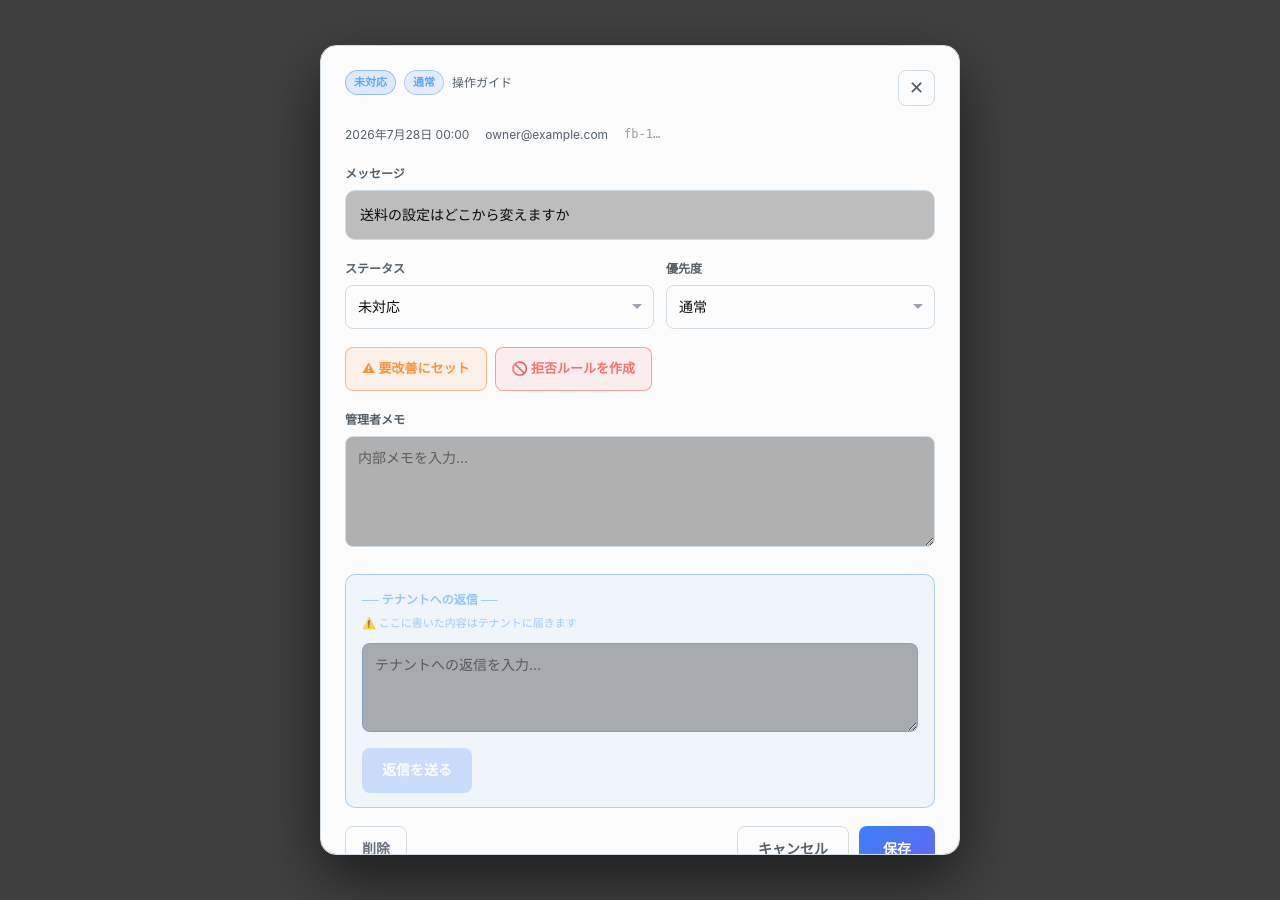
it: DetailModal — テナントへの返信 › 送信失敗時はエラーメッセージを表示し、送信済み表示にはならない
The width and height of the screenshot is (1280, 900).
Type "テスト返信" into the text box with placeholder "テナントへの返信を入力..." at (640, 688), box [362,643,918,732]
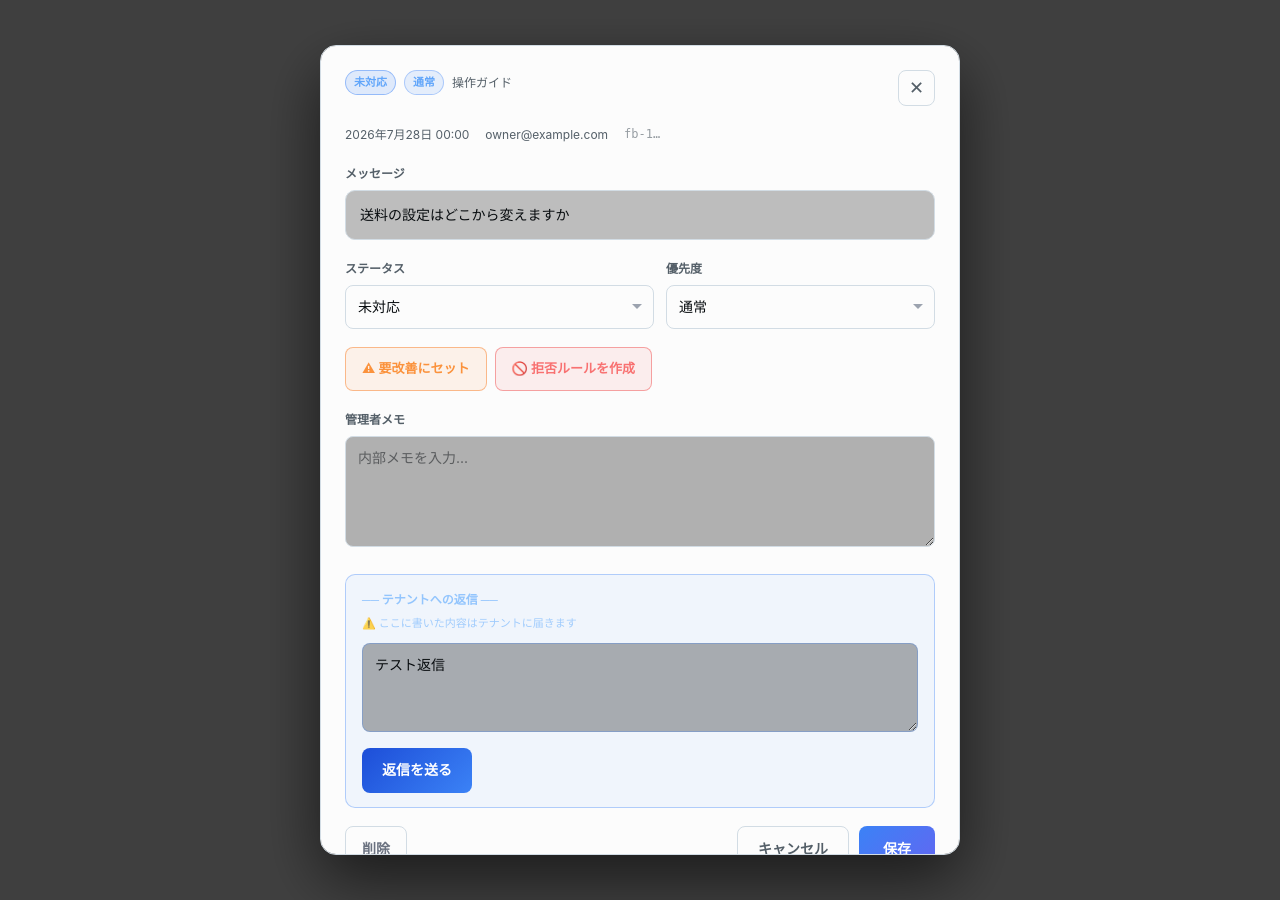
Click the button "返信を送る" at (417, 771), box [362,748,472,793]
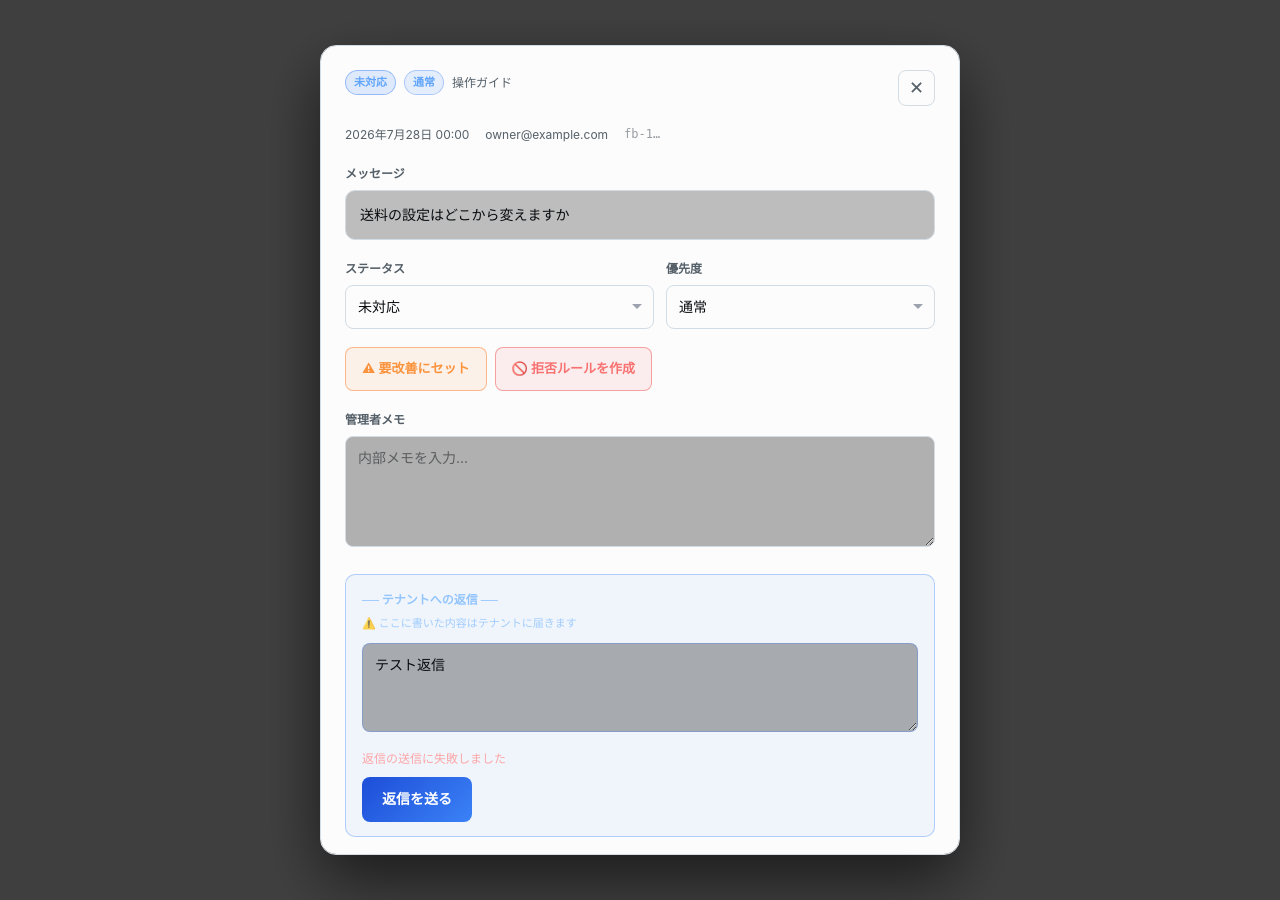
Expected: the text "返信の送信に失敗しました" is shown, [362,751,506,766]
